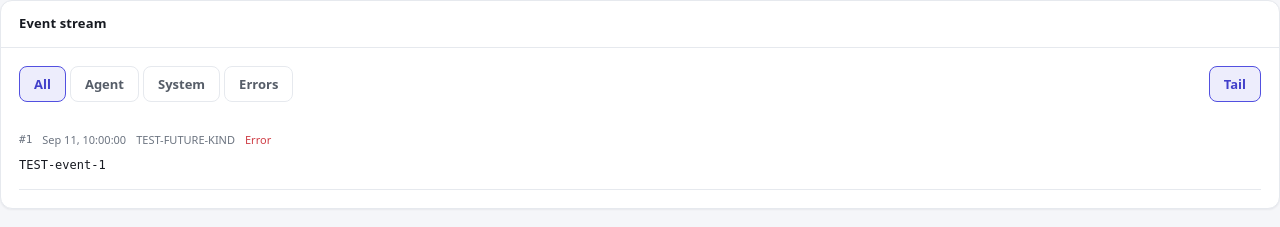
renders an unknown kind in All, System and Errors, never Agent
Expected: the list item shows "TEST-FUTURE-KIND", [136,132,235,146]
Click the button "System": x=182, y=84 [143,66,220,102]
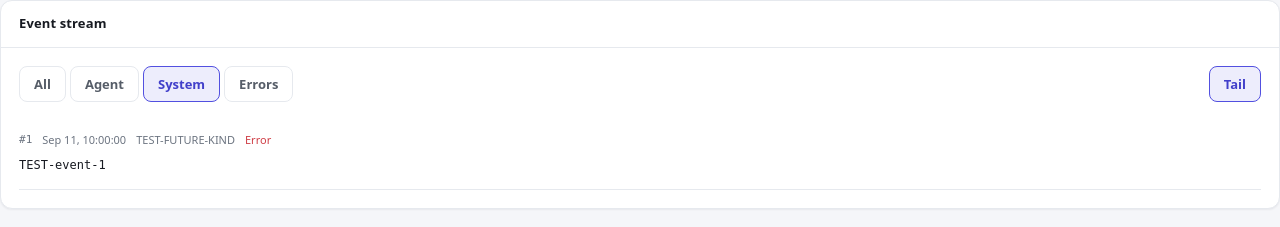
Expected: the list item shows "TEST-FUTURE-KIND", [136,132,235,146]
Click the button "Errors": x=259, y=84 [224,66,293,102]
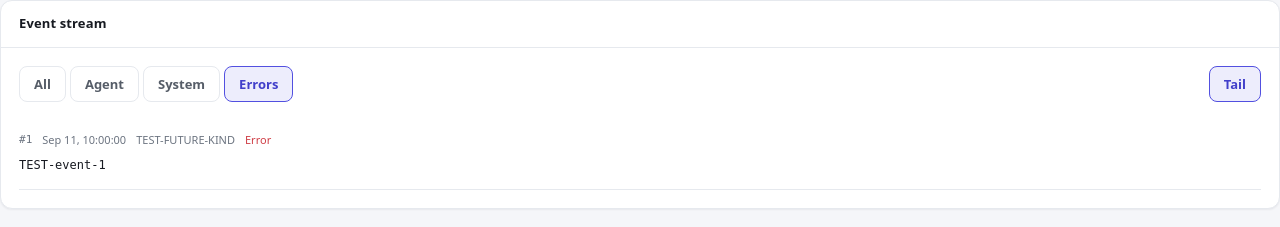
Expected: the list item shows "TEST-FUTURE-KIND", [136,132,235,146]
Click the button "Agent": x=104, y=84 [70,66,139,102]
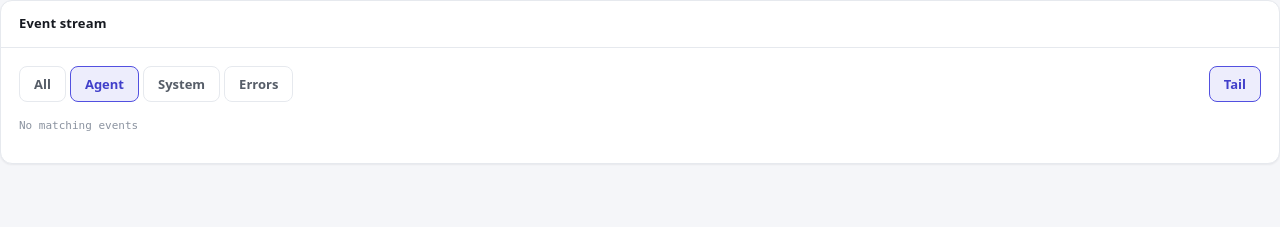
Now no list items are shown
Now the text "No matching events" is shown, box [19,118,138,132]
